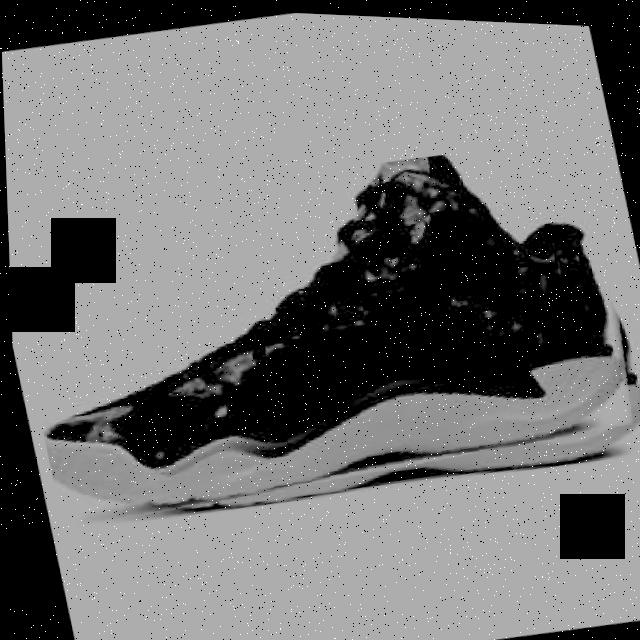shoe: (3, 108, 640, 551)
